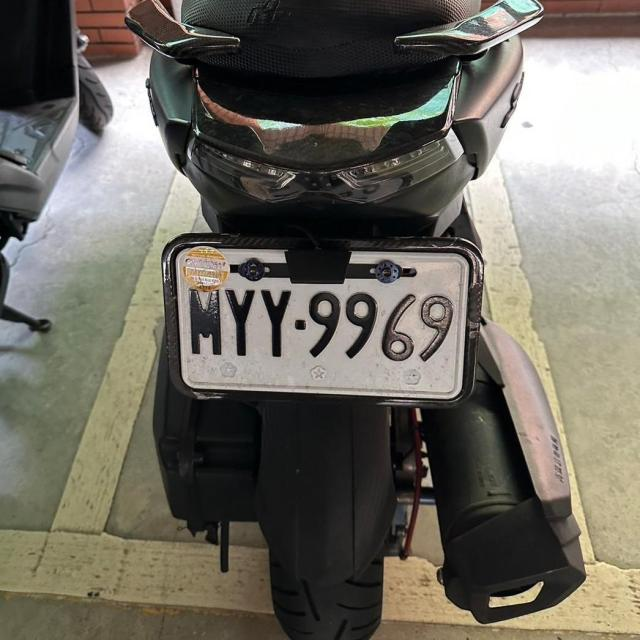W: (171, 236, 475, 403)
